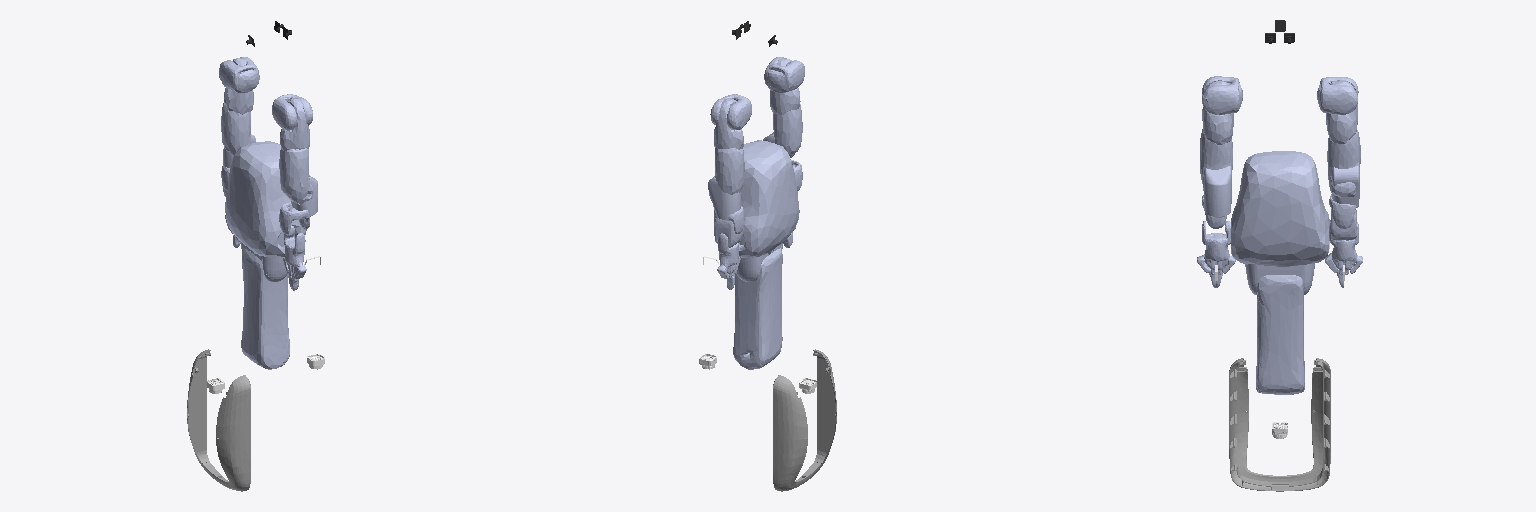
--- What the picture shows (computed from the rendered views, not written in the file) ---
The picture shows the robot from 3 angles, left to right: view 1: azimuth 30°, elevation 25°; view 2: azimuth 150°, elevation 25°; view 3: azimuth 270°, elevation 25°; orthographic projection.
Robot: autolife — 49 links, 48 joints (19 revolute, 2 prismatic, 27 fixed); root link Link_Zero_Point; default pose: all joints at 0.
Links seen in each view (by area): view 1: Link_Waist_Yaw_to_Shoulder_Inner, Link_Ground_Vehicle_Visual_Cover, Link_Ankle_to_Knee, Link_Right_UpperArm_to_Elbow, Link_Left_UpperArm_to_Elbow, Link_Left_Shoulder_Inner_to_Shoulder_Outer, Link_Right_Shoulder_Outer_to_UpperArm, Link_Right_Shoulder_Inner_to_Shoulder_Outer, Link_Left_Shoulder_Outer_to_UpperArm, Link_Right_Wrist_Lower_to_Gripper, Link_Right_Forearm_to_Wrist_Upper, Link_Knee_to_Waist_Pitch; view 2: Link_Waist_Yaw_to_Shoulder_Inner, Link_Ground_Vehicle_Visual_Cover, Link_Ankle_to_Knee, Link_Left_UpperArm_to_Elbow, Link_Right_UpperArm_to_Elbow, Link_Right_Shoulder_Inner_to_Shoulder_Outer, Link_Left_Shoulder_Inner_to_Shoulder_Outer, Link_Left_Shoulder_Outer_to_UpperArm, Link_Left_Elbow_to_Forearm, Link_Right_Shoulder_Outer_to_UpperArm, Link_Knee_to_Waist_Pitch; view 3: Link_Waist_Yaw_to_Shoulder_Inner, Link_Ground_Vehicle_Visual_Cover, Link_Ankle_to_Knee, Link_Left_UpperArm_to_Elbow, Link_Right_Elbow_to_Forearm, Link_Right_Shoulder_Inner_to_Shoulder_Outer, Link_Left_Shoulder_Inner_to_Shoulder_Outer, Link_Knee_to_Waist_Pitch, Link_Right_UpperArm_to_Elbow, Link_Right_Shoulder_Outer_to_UpperArm, Link_Left_Shoulder_Outer_to_UpperArm, Link_Right_Wrist_Lower_to_Gripper (+3 smaller).
Link boxes in pixels (x1,y1,x2,y2): Link_Waist_Yaw_to_Shoulder_Inner: (225, 141, 306, 257); Link_Ground_Vehicle_Visual_Cover: (187, 349, 250, 491); Link_Ankle_to_Knee: (241, 248, 289, 369); Link_Right_UpperArm_to_Elbow: (279, 148, 313, 204); Link_Left_UpperArm_to_Elbow: (221, 103, 251, 154); Link_Left_Shoulder_Inner_to_Shoulder_Outer: (219, 57, 259, 92); Link_Right_Shoulder_Outer_to_UpperArm: (280, 98, 309, 150); Link_Right_Shoulder_Inner_to_Shoulder_Outer: (272, 94, 312, 130); Link_Left_Shoulder_Outer_to_UpperArm: (224, 58, 253, 114); Link_Right_Wrist_Lower_to_Gripper: (284, 225, 305, 273); Link_Right_Forearm_to_Wrist_Upper: (279, 202, 309, 234); Link_Knee_to_Waist_Pitch: (241, 232, 287, 281); Link_Waist_Yaw_to_Shoulder_Inner: (739, 140, 799, 257); Link_Ground_Vehicle_Visual_Cover: (773, 349, 836, 491); Link_Ankle_to_Knee: (733, 248, 782, 369); Link_Left_UpperArm_to_Elbow: (709, 148, 744, 200); Link_Right_UpperArm_to_Elbow: (773, 104, 802, 157); Link_Right_Shoulder_Inner_to_Shoulder_Outer: (764, 57, 804, 92); Link_Left_Shoulder_Inner_to_Shoulder_Outer: (710, 94, 751, 130); Link_Left_Shoulder_Outer_to_UpperArm: (714, 98, 743, 149); Link_Left_Elbow_to_Forearm: (708, 176, 740, 220); Link_Right_Shoulder_Outer_to_UpperArm: (770, 58, 800, 114); Link_Knee_to_Waist_Pitch: (736, 237, 782, 281); Link_Waist_Yaw_to_Shoulder_Inner: (1231, 151, 1329, 266); Link_Ground_Vehicle_Visual_Cover: (1229, 358, 1330, 491); Link_Ankle_to_Knee: (1256, 275, 1304, 394); Link_Left_UpperArm_to_Elbow: (1327, 130, 1360, 197); Link_Right_Elbow_to_Forearm: (1204, 166, 1231, 217); Link_Right_Shoulder_Inner_to_Shoulder_Outer: (1202, 76, 1242, 114); Link_Left_Shoulder_Inner_to_Shoulder_Outer: (1317, 77, 1358, 114); Link_Knee_to_Waist_Pitch: (1245, 264, 1314, 294); Link_Right_UpperArm_to_Elbow: (1200, 129, 1232, 190); Link_Right_Shoulder_Outer_to_UpperArm: (1202, 81, 1233, 144); Link_Left_Shoulder_Outer_to_UpperArm: (1326, 81, 1357, 143); Link_Right_Wrist_Lower_to_Gripper: (1202, 221, 1230, 269).
Size in the robot's own frame: 0.5191 by 0.5643 by 1.82 metres.
Meshes: 45 distinct files referenced, 38 mesh visuals loaded (38 binary STL); not drawn: 7 (reference not matched to a file when rendering).

robot.urdf — autolife:
<?xml version="1.0" encoding="utf-8"?>
<!-- This URDF was automatically created by SolidWorks to URDF Exporter! Originally created by Stephen Brawner ([email redacted]) 
     Commit Version: 1.6.0-4-g7f85cfe  Build Version: 1.6.7995.38578
     For more information, please see http://wiki.ros.org/sw_urdf_exporter -->
<robot
  name="autolife">
  <link
    name="Link_Zero_Point">
    <inertial>
      <origin
        xyz="0 0 0"
        rpy="0 0 0" />
      <mass
        value="0.01" />
      <inertia
        ixx="1.0471975511966E-12"
        ixy="-6.89317177127524E-27"
        ixz="6.3476295512101E-43"
        iyy="1.04719755119686E-12"
        iyz="3.20601193725648E-29"
        izz="1.57079632679516E-12" />
    </inertial>
  </link>
  <link
    name="Link_Ground_Vehicle_Z">
    <inertial>
      <origin
        xyz="0.000400870897858022 0.109142664548612 0.0147192660471476"
        rpy="0 0 0" />
      <mass
        value="26.3816730805344" />
      <inertia
        ixx="0.00775765841261898"
        ixy="-1.2335090405042E-05"
        ixz="2.90755207854229E-06"
        iyy="0.0119705159502724"
        iyz="-0.000230536877947004"
        izz="0.00857382205336638" />
    </inertial>
    <visual>
      <origin
        xyz="0 0 0"
        rpy="0 0 0" />
      <geometry>
        <mesh
          filename="package://meshes/Link_Ground_Vehicle_Z.STL" />
      </geometry>
      <material
        name="">
        <color
          rgba="0.792156862745098 0.819607843137255 0.933333333333333 1" />
      </material>
    </visual>
    <collision>
      <origin
        xyz="0 0 0"
        rpy="0 0 0" />
      <geometry>
        <mesh
          filename="package://meshes/Link_Ground_Vehicle_Z.STL" />
      </geometry>
    </collision>
  </link>

  <!-- Virtual links and joints for 3-DOF base motion (x, y, theta) -->
  <link
    name="Link_Virtual_X">
    <inertial>
      <origin
        xyz="0 0 0"
        rpy="0 0 0" />
      <mass
        value="0.001" />
      <inertia
        ixx="1e-9"
        ixy="0"
        ixz="0"
        iyy="1e-9"
        iyz="0"
        izz="1e-9" />
    </inertial>
  </link>
  <link
    name="Link_Virtual_Y">
    <inertial>
      <origin
        xyz="0 0 0"
        rpy="0 0 0" />
      <mass
        value="0.001" />
      <inertia
        ixx="1e-9"
        ixy="0"
        ixz="0"
        iyy="1e-9"
        iyz="0"
        izz="1e-9" />
    </inertial>
  </link>
  <link
    name="Link_Virtual_Theta">
    <inertial>
      <origin
        xyz="0 0 0"
        rpy="0 0 0" />
      <mass
        value="0.001" />
      <inertia
        ixx="1e-9"
        ixy="0"
        ixz="0"
        iyy="1e-9"
        iyz="0"
        izz="1e-9" />
    </inertial>
  </link>
  <joint
    name="Joint_Virtual_X"
    type="prismatic">
    <origin
      xyz="0 0 0"
      rpy="0 0 0" />
    <parent
      link="Link_Zero_Point" />
    <child
      link="Link_Virtual_X" />
    <axis
      xyz="1 0 0" />
    <limit
      lower="-10"
      upper="10"
      effort="100"
      velocity="1.0" />
  </joint>
  <joint
    name="Joint_Virtual_Y"
    type="prismatic">
    <origin
      xyz="0 0 0"
      rpy="0 0 0" />
    <parent
      link="Link_Virtual_X" />
    <child
      link="Link_Virtual_Y" />
    <axis
      xyz="0 1 0" />
    <limit
      lower="-10"
      upper="10"
      effort="100"
      velocity="1.0" />
  </joint>
  <joint
    name="Joint_Virtual_Theta"
    type="revolute">
    <origin
      xyz="0 0 0"
      rpy="0 0 0" />
    <parent
      link="Link_Virtual_Y" />
    <child
      link="Link_Virtual_Theta" />
    <axis
      xyz="0 0 1" />
    <limit
      lower="-3.14159265358979"
      upper="3.14159265358979"
      effort="100"
      velocity="1.0" />
  </joint>
  <joint
    name="Joint_Ground_Vehicle_Z_Fixed"
    type="fixed">
    <origin
      xyz="0 0 0"
      rpy="1.5707963267949 0 -1.57079632679516" />
    <parent
      link="Link_Virtual_Theta" />
    <child
      link="Link_Ground_Vehicle_Z" />
    <axis
      xyz="0 0 0" />
  </joint>
  <link
    name="Link_Ankle_to_Knee">
    <inertial>
      <origin
        xyz="0.172566218012948 0.000537114400601479 -0.00912227769136287"
        rpy="0 0 0" />
      <mass
        value="3" />
      <inertia
        ixx="0.00282056539078239"
        ixy="7.97626589078161E-06"
        ixz="9.37318496690752E-05"
        iyy="0.0243242982709916"
        iyz="4.97919456103667E-05"
        izz="0.0234239709963532" />
    </inertial>
    <visual>
      <origin
        xyz="0 0 0"
        rpy="0 0 0" />
      <geometry>
        <mesh
          filename="package://meshes/Link_Ankle_to_Knee.STL" />
      </geometry>
      <material
        name="">
        <color
          rgba="0.792156862745098 0.819607843137255 0.933333333333333 1" />
      </material>
    </visual>
    <collision>
      <origin
        xyz="0 0 0"
        rpy="0 0 0" />
      <geometry>
        <mesh
          filename="package://meshes/Link_Ankle_to_Knee.STL" />
      </geometry>
    </collision>
  </link>
  <joint
    name="Joint_Ankle"
    type="revolute">
    <origin
      xyz="0 0.27 0"
      rpy="1.5708 0 1.5708" />
    <parent
      link="Link_Ground_Vehicle_Z" />
    <child
      link="Link_Ankle_to_Knee" />
    <axis
      xyz="0 0 -1" />
    <limit
      lower="-1.5708"
      upper="1.5708"
      effort="150"
      velocity="1" />
  </joint>
  <link
    name="Link_Knee_to_Waist_Pitch">
    <inertial>
      <origin
        xyz="0.190516175511759 0.00160329740526043 0.0308179543107181"
        rpy="0 0 0" />
      <mass
        value="2" />
      <inertia
        ixx="0.000958495389194447"
        ixy="-0.000157190432853224"
        ixz="4.07646396563268E-07"
        iyy="0.0115279594031608"
        iyz="-6.27935755551994E-08"
        izz="0.0122760868634565" />
    </inertial>
    <visual>
      <origin
        xyz="0 0 0"
        rpy="0 0 0" />
      <geometry>
        <mesh
          filename="package://meshes/Link_Knee_to_Waist_Pitch.STL" />
      </geometry>
      <material
        name="">
        <color
          rgba="0.792156862745098 0.819607843137255 0.933333333333333 1" />
      </material>
    </visual>
    <collision>
      <origin
        xyz="0 0 0"
        rpy="0 0 0" />
      <geometry>
        <mesh
          filename="package://meshes/Link_Knee_to_Waist_Pitch.STL" />
      </geometry>
    </collision>
  </link>
  <joint
    name="Joint_Knee"
    type="revolute">
    <origin
      xyz="0.3495 0 0"
      rpy="0 0 0" />
    <parent
      link="Link_Ankle_to_Knee" />
    <child
      link="Link_Knee_to_Waist_Pitch" />
    <axis
      xyz="0 0 1" />
    <limit
      lower="-3.14"
      upper="3.14"
      effort="150"
      velocity="1" />
  </joint>
  <link
    name="Link_Waist_Pitch_to_Waist_Yaw">
    <inertial>
      <origin
        xyz="0.0152074286340818 -0.000372613686719527 0.00044493341050468"
        rpy="0 0 0" />
      <mass
        value="3" />
      <inertia
        ixx="0.00059017216172053"
        ixy="-3.01831260181909E-06"
        ixz="5.48538135378066E-06"
        iyy="0.000866684105629655"
        iyz="8.73802440668745E-07"
        izz="0.000589200767126788" />
    </inertial>
    <visual>
      <origin
        xyz="0 0 0"
        rpy="0 0 0" />
      <geometry>
        <mesh
          filename="package://meshes/Link_Waist_Pitch_to_Waist_Yaw.STL" />
      </geometry>
      <material
        name="">
        <color
          rgba="0.792156862745098 0.819607843137255 0.933333333333333 1" />
      </material>
    </visual>
    <collision>
      <origin
        xyz="0 0 0"
        rpy="0 0 0" />
      <geometry>
        <mesh
          filename="package://meshes/Link_Waist_Pitch_to_Waist_Yaw.STL" />
      </geometry>
    </collision>
  </link>
  <joint
    name="Joint_Waist_Pitch"
    type="revolute">
    <origin
      xyz="0.3705 0 0"
      rpy="0 0 0" />
    <parent
      link="Link_Knee_to_Waist_Pitch" />
    <child
      link="Link_Waist_Pitch_to_Waist_Yaw" />
    <axis
      xyz="0 0 -1" />
    <limit
      lower="-3"
      upper="3"
      effort="98"
      velocity="1" />
  </joint>
  <link
    name="Link_Waist_Yaw_to_Shoulder_Inner">
    <inertial>
      <origin
        xyz="-0.00357443973349267 0.000167612086857727 0.210203734680231"
        rpy="0 0 0" />
      <mass
        value="8" />
      <inertia
        ixx="0.029899659677621"
        ixy="1.04916920327859E-05"
        ixz="0.00382797872117665"
        iyy="0.0250140583387209"
        iyz="-5.26315732752239E-05"
        izz="0.00904894088047657" />
    </inertial>
    <visual>
      <origin
        xyz="0 0 0"
        rpy="0 0 0" />
      <geometry>
        <mesh
          filename="package://meshes/Link_Waist_Yaw_to_Shoulder_Inner.STL" />
      </geometry>
      <material
        name="">
        <color
          rgba="0.792156862745098 0.819607843137255 0.933333333333333 1" />
      </material>
    </visual>
    <collision>
      <origin
        xyz="0 0 0"
        rpy="0 0 0" />
      <geometry>
        <mesh
          filename="package://meshes/Link_Waist_Yaw_to_Shoulder_Inner.STL" />
      </geometry>
    </collision>
  </link>
  <joint
    name="Joint_Waist_Yaw"
    type="revolute">
    <origin
      xyz="0.06643 0 0"
      rpy="-1.5708 0 -1.5708" />
    <parent
      link="Link_Waist_Pitch_to_Waist_Yaw" />
    <child
      link="Link_Waist_Yaw_to_Shoulder_Inner" />
    <axis
      xyz="0 0 1" />
    <limit
      lower="-3.141"
      upper="3.141"
      effort="66"
      velocity="1" />
  </joint>
  <link
    name="Link_Left_Shoulder_Inner_to_Shoulder_Outer">
    <inertial>
      <origin
        xyz="-0.000617503609231501 0.000337151611778941 0.041930917262553"
        rpy="0 0 0" />
      <mass
        value="2" />
      <inertia
        ixx="0.000317942614144699"
        ixy="-4.37586341691817E-06"
        ixz="-4.62836387627398E-06"
        iyy="0.00033024767989875"
        iyz="5.48084290151384E-06"
        izz="0.000257578010843229" />
    </inertial>
    <visual>
      <origin
        xyz="0 0 0"
        rpy="0 0 0" />
      <geometry>
        <mesh
          filename="package://meshes/Link_Left_Shoulder_Inner_to_Shoulder_Outer.STL" />
      </geometry>
      <material
        name="">
        <color
          rgba="0.792156862745098 0.819607843137255 0.933333333333333 1" />
      </material>
    </visual>
    <collision>
      <origin
        xyz="0 0 0"
        rpy="0 0 0" />
      <geometry>
        <mesh
          filename="package://meshes/Link_Left_Shoulder_Inner_to_Shoulder_Outer.STL" />
      </geometry>
    </collision>
  </link>
  <joint
    name="Joint_Left_Shoulder_Inner"
    type="revolute">
    <origin
      xyz="0 0.1311 0.25157"
      rpy="-1.5708 0 0" />
    <parent
      link="Link_Waist_Yaw_to_Shoulder_Inner" />
    <child
      link="Link_Left_Shoulder_Inner_to_Shoulder_Outer" />
    <axis
      xyz="0 0 -1" />
    <limit
      lower="-2.6179"
      upper="3.141"
      effort="21"
      velocity="1" />
  </joint>
  <link
    name="Link_Left_Shoulder_Outer_to_UpperArm">
    <inertial>
      <origin
        xyz="0.027453771294637 0.00492656911979178 -0.0324567233905465"
        rpy="0 0 0" />
      <mass
        value="2" />
      <inertia
        ixx="0.000214042217134073"
        ixy="-1.11365520673853E-05"
        ixz="2.20630090176925E-06"
        iyy="0.000214385650493547"
        iyz="1.92514857571144E-06"
        izz="0.000358027948278359" />
    </inertial>
    <visual>
      <origin
        xyz="0 0 0"
        rpy="0 0 0" />
      <geometry>
        <mesh
          filename="package://meshes/Link_Left_Shoulder_Outer_to_UpperArm.STL" />
      </geometry>
      <material
        name="">
        <color
          rgba="0.792156862745098 0.819607843137255 0.933333333333333 1" />
      </material>
    </visual>
    <collision>
      <origin
        xyz="0 0 0"
        rpy="0 0 0" />
      <geometry>
        <mesh
          filename="package://meshes/Link_Left_Shoulder_Outer_to_UpperArm.STL" />
      </geometry>
    </collision>
  </link>
  <joint
    name="Joint_Left_Shoulder_Outer"
    type="revolute">
    <origin
      xyz="0.02825 0 0.074"
      rpy="1.5708 0 1.5708" />
    <parent
      link="Link_Left_Shoulder_Inner_to_Shoulder_Outer" />
    <child
      link="Link_Left_Shoulder_Outer_to_UpperArm" />
    <axis
      xyz="0 0 1" />
    <limit
      lower="-0.349"
      upper="3.1415"
      effort="18"
      velocity="1" />
  </joint>
  <link
    name="Link_Left_UpperArm_to_Elbow">
    <inertial>
      <origin
        xyz="0.00283794982263701 0.00105392837504717 0.0547329007335405"
        rpy="0 0 0" />
      <mass
        value="2" />
      <inertia
        ixx="0.000393121104257055"
        ixy="-8.75799848864167E-06"
        ixz="-3.96258342292467E-06"
        iyy="0.000395853021852877"
        iyz="-1.34021046685226E-05"
        izz="0.000299792811027195" />
    </inertial>
    <visual>
      <origin
        xyz="0 0 0"
        rpy="0 0 0" />
      <geometry>
        <mesh
          filename="package://meshes/Link_Left_UpperArm_to_Elbow.STL" />
      </geometry>
      <material
        name="">
        <color
          rgba="0.792156862745098 0.819607843137255 0.933333333333333 1" />
      </material>
    </visual>
    <collision>
      <origin
        xyz="0 0 0"
        rpy="0 0 0" />
      <geometry>
        <mesh
          filename="package://meshes/Link_Left_UpperArm_to_Elbow.STL" />
      </geometry>
    </collision>
  </link>
  <joint
    name="Joint_Left_UpperArm"
    type="revolute">
    <origin
      xyz="0.1105 0.011 -0.02825"
      rpy="0 -1.5708 3.1415" />
    <parent
      link="Link_Left_Shoulder_Outer_to_UpperArm" />
    <child
      link="Link_Left_UpperArm_to_Elbow" />
    <axis
      xyz="0 0 -1" />
    <limit
      lower="-2.9322"
      upper="2.9322"
      effort="15"
      velocity="1" />
  </joint>
  <link
    name="Link_Left_Elbow_to_Forearm">
    <inertial>
      <origin
        xyz="0.0549465992217473 -0.0216756135999627 -0.0245947302614916"
        rpy="0 0 0" />
      <mass
        value="2" />
      <inertia
        ixx="0.000127911799616732"
        ixy="2.3810625065098E-05"
        ixz="1.03498654475136E-05"
        iyy="0.000147030754345232"
        iyz="-3.53363506350729E-06"
        izz="0.000184937879209279" />
    </inertial>
    <visual>
      <origin
        xyz="0 0 0"
        rpy="0 0 0" />
      <geometry>
        <mesh
          filename="package://meshes/Link_Left_Elbow_to_Forearm.STL" />
      </geometry>
      <material
        name="">
        <color
          rgba="0.792156862745098 0.819607843137255 0.933333333333333 1" />
      </material>
    </visual>
    <collision>
      <origin
        xyz="0 0 0"
        rpy="0 0 0" />
      <geometry>
        <mesh
          filename="package://meshes/Link_Left_Elbow_to_Forearm.STL" />
      </geometry>
    </collision>
  </link>
  <joint
    name="Joint_Left_Elbow"
    type="revolute">
    <origin
      xyz="0.025 0.02925 0.1761"
      rpy="0 -1.5708 -1.5708" />
    <parent
      link="Link_Left_UpperArm_to_Elbow" />
    <child
      link="Link_Left_Elbow_to_Forearm" />
    <axis
      xyz="0 0 1" />
    <limit
      lower="-0.0524"
      upper="2.6179"
      effort="12"
      velocity="1" />
  </joint>
  <link
    name="Link_Left_Forearm_to_Wrist_Upper">
    <inertial>
      <origin
        xyz="0.0117316218483125 -3.69437686770224E-06 0.0184007744588988"
        rpy="0 0 0" />
      <mass
        value="2" />
      <inertia
        ixx="6.56522999630318E-05"
        ixy="3.29723529713842E-09"
        ixz="-5.7222681723475E-06"
        iyy="5.37807072488987E-05"
        iyz="-6.26393944850658E-09"
        izz="4.47545736054096E-05" />
    </inertial>
    <visual>
      <origin
        xyz="0 0 0"
        rpy="0 0 0" />
      <geometry>
        <mesh
          filename="package://meshes/Link_Left_Forearm_to_Wrist_Upper.STL" />
      </geometry>
      <material
        name="">
        <color
          rgba="0.792156862745098 0.819607843137255 0.933333333333333 1" />
      </material>
    </visual>
    <collision>
      <origin
        xyz="0 0 0"
        rpy="0 0 0" />
      <geometry>
        <mesh
          filename="package://meshes/Link_Left_Forearm_to_Wrist_Upper.STL" />
      </geometry>
    </collision>
  </link>
  <joint
    name="Joint_Left_Forearm"
    type="revolute">
    <origin
      xyz="0.1055 -0.025 -0.02925"
      rpy="1.5708 0 1.5708" />
    <parent
      link="Link_Left_Elbow_to_Forearm" />
    <child
      link="Link_Left_Forearm_to_Wrist_Upper" />
    <axis
      xyz="0 0 1" />
    <limit
      lower="-2.8798"
      upper="2.8798"
      effort="9"
      velocity="1" />
  </joint>
  <link
    name="Link_Left_Wrist_Upper_to_Wrist_Lower">
    <inertial>
      <origin
        xyz="0.0274706147902958 0.00306146003716865 -0.0287201081136689"
        rpy="0 0 0" />
      <mass
        value="2" />
      <inertia
        ixx="7.43980450322553E-05"
        ixy="-2.82930739790898E-06"
        ixz="1.6123049284515E-05"
        iyy="0.00012828611050118"
        iyz="2.54263802065241E-06"
        izz="0.000158264614221317" />
    </inertial>
    <visual>
      <origin
        xyz="0 0 0"
        rpy="0 0 0" />
      <geometry>
        <mesh
          filename="package://meshes/Link_Left_Wrist_Upper_to_Wrist_Lower.STL" />
      </geometry>
      <material
        name="">
        <color
          rgba="0.792156862745098 0.819607843137255 0.933333333333333 1" />
      </material>
    </visual>
    <collision>
      <origin
        xyz="0 0 0"
        rpy="0 0 0" />
      <geometry>
        <mesh
          filename="package://meshes/Link_Left_Wrist_Upper_to_Wrist_Lower.STL" />
      </geometry>
    </collision>
  </link>
  <joint
    name="Joint_Left_Wrist_Upper"
    type="revolute">
    <origin
      xyz="0.0321 0.00036292 0.045"
      rpy="0 -1.5708 3.1415" />
    <parent
      link="Link_Left_Forearm_to_Wrist_Upper" />
    <child
      link="Link_Left_Wrist_Upper_to_Wrist_Lower" />
    <axis
      xyz="0 0 -1" />
    <limit
      lower="-1.57"
      upper="1.57"
      effort="6"
      velocity="1" />
  </joint>
  <link
    name="Link_Left_Wrist_Lower_to_Gripper">
    <inertial>
      <origin
        xyz="0.0648741770844647 -0.000143597434240463 -0.027134195278571"
        rpy="0 0 0" />
      <mass
        value="2" />
      <inertia
        ixx="6.4292671396503E-05"
        ixy="-5.66441597276215E-08"
        ixz="8.15328654282781E-06"
        iyy="0.000103295646245639"
        iyz="-8.51386738848492E-08"
        izz="6.79418373823619E-05" />
    </inertial>
    <visual>
      <origin
        xyz="0 0 0"
        rpy="0 0 0" />
      <geometry>
        <mesh
          filename="package://meshes/Link_Left_Wrist_Lower_to_Gripper.STL" />
      </geometry>
      <material
        name="">
        <color
          rgba="0.792156862745098 0.819607843137255 0.933333333333333 1" />
      </material>
    </visual>
    <collision>
      <origin
        xyz="0 0 0"
        rpy="0 0 0" />
      <geometry>
        <mesh
          filename="package://meshes/Link_Left_Wrist_Lower_to_Gripper.STL" />
      </geometry>
    </collision>
  </link>
  <joint
    name="Joint_Left_Wrist_Lower"
    type="revolute">
    <origin
      xyz="0.0552 0.0321 -0.0321"
      rpy="-1.5708 0 0" />
    <parent
      link="Link_Left_Wrist_Upper_to_Wrist_Lower" />
    <child
      link="Link_Left_Wrist_Lower_to_Gripper" />
    <axis
      xyz="0 0 1" />
    <limit
      lower="-1.4138"
      upper="1.4138"
      effort="3"
      velocity="1" />
  </joint>
  <link
    name="Link_Camera_Gripper_Left">
    <inertial>
      <origin
        xyz="0 -6.53598090210165E-05 -0.0062936548087732"
        rpy="0 0 0" />
      <mass
        value="0.000689353299449198" />
      <inertia
        ixx="1.52761574483593E-08"
        ixy="7.02761889738621E-43"
        ixz="-5.04870979341448E-26"
        iyy="1.50267886999145E-08"
        iyz="-2.75127488935958E-10"
        izz="7.39519392062991E-09" />
    </inertial>
    <visual>
      <origin
        xyz="0 0 0"
        rpy="0 0 0" />
      <geometry>
        <mesh
          filename="package://meshes/Link_Camera_Gripper_Left.STL" />
      </geometry>
      <material
        name="">
        <color
          rgba="1 1 1 1" />
      </material>
    </visual>
    <collision>
      <origin
        xyz="0 0 0"
        rpy="0 0 0" />
      <geometry>
        <mesh
          filename="package://meshes/Link_Camera_Gripper_Left.STL" />
      </geometry>
    </collision>
  </link>
  <joint
    name="Joint_Camera_Gripper_Left"
    type="fixed">
    <origin
      xyz="0.144 0 -0.031737"
      rpy="0 -1.5708 3.1415" />
    <parent
      link="Link_Left_Wrist_Lower_to_Gripper" />
    <child
      link="Link_Camera_Gripper_Left" />
    <axis
      xyz="0 0 0" />
  </joint>
  <link
    name="Link_Left_Gripper">
    <inertial>
      <origin
        xyz="0.0128216630537897 -0.0271636558972338 -0.0109999992497105"
        rpy="0 0 0" />
      <mass
        value="0.019071611307144" />
      <inertia
        ixx="4.37605332229106E-06"
        ixy="-7.97606854154892E-07"
        ixz="-6.31265013308784E-14"
        iyy="2.85906444595262E-06"
        iyz="-5.83897624438853E-14"
        izz="4.7709011928422E-06" />
    </inertial>
    <visual>
      <origin
        xyz="0 0 0"
        rpy="0 0 0" />
      <geometry>
        <mesh
          filename="package://meshes/Link_Left_Gripper.STL" />
      </geometry>
      <material
        name="">
        <color
          rgba="0.792156862745098 0.819607843137255 0.933333333333333 1" />
      </material>
    </visual>
    <collision>
      <origin
        xyz="0 0 0"
        rpy="0 0 0" />
      <geometry>
        <mesh
          filename="package://meshes/Link_Left_Gripper.STL" />
      </geometry>
    </collision>
  </link>
  <joint
    name="Joint_Left_Gripper"
    type="fixed">
    <origin
      xyz="0.10148 -0.011 -0.0011371"
      rpy="1.5708 -1.5708 0" />
    <parent
      link="Link_Left_Wrist_Lower_to_Gripper" />
    <child
      link="Link_Left_Gripper" />
    <axis
      xyz="0 0 1" />
    <limit
      lower="-1.333"
      upper="1"
      effort="2"
      velocity="1" />
  </joint>
  <link
    name="Link_Left_Gripper_Left_Inner_Knuckle">
    <inertial>
      <origin
        xyz="-0.0014993883392225 -0.0291504043841675 -0.0109999999999989"
        rpy="0 0 0" />
      <mass
        value="0.0102249515270339" />
      <inertia
        ixx="4.39129754380158E-06"
        ixy="-1.27692143624081E-07"
        ixz="2.83960514374052E-21"
        iyy="1.74716935939326E-06"
        iyz="3.84591771392931E-20"
        izz="2.912047839001E-06" />
    </inertial>
    <visual>
      <origin
        xyz="0 0 0"
        rpy="0 0 0" />
      <geometry>
        <mesh
          filename="package://meshes/Link_Left_Gripper_Left_Inner_Knuckle.STL" />
      </geometry>
      <material
        name="">
        <color
          rgba="0.792156862745098 0.819607843137255 0.933333333333333 1" />
      </material>
    </visual>
    <collision>
      <origin
        xyz="0 0 0"
        rpy="0 0 0" />
      <geometry>
        <mesh
          filename="package://meshes/Link_Left_Gripper_Left_Inner_Knuckle.STL" />
      </geometry>
    </collision>
  </link>
  <joint
    name="Joint_Left_Gripper_Left_Inner_Knuckle"
    type="fixed">
    <origin
      xyz="0.10799 -0.011 -0.019037"
      rpy="1.5708 -1.5708 0" />
    <parent
      link="Link_Left_Wrist_Lower_to_Gripper" />
    <child
      link="Link_Left_Gripper_Left_Inner_Knuckle" />
    <axis
      xyz="0 0 1" />
    <limit
      lower="-1"
      upper="1"
      effort="2"
      velocity="1" />
    <mimic
      joint="Joint_Left_Gripper"
      multiplier="1"
      offset="0" />
  </joint>
  <link
    name="Joint_Left_Gripper_Left_Finger">
    <inertial>
      <origin
        xyz="0.000641821702344197 -0.0211812400734594 -0.00789294723050178"
        rpy="0 0 0" />
      <mass
        value="0.0195863673176325" />
      <inertia
        ixx="3.21349935756281E-06"
        ixy="-3.31543812300713E-07"
        ixz="-6.14417448646314E-09"
        iyy="1.31949587109393E-06"
        iyz="-2.98355626473403E-08"
        izz="2.98254973033515E-06" />
    </inertial>
    <visual>
      <origin
        xyz="0 0 0"
        rpy="0 0 0" />
      <geometry>
        <mesh
          filename="package://meshes/Joint_Left_Gripper_Left_Finger.STL" />
      </geometry>
      <material
        name="">
        <color
          rgba="0.792156862745098 0.819607843137255 0.933333333333333 1" />
      </material>
    </visual>
    <collision>
      <origin
        xyz="0 0 0"
        rpy="0 0 0" />
      <geometry>
        <mesh
          filename="package://meshes/Joint_Left_Gripper_Left_Finger.STL" />
      </geometry>
    </collision>
  </link>
  <joint
    name="Joint_Left_Gripper_Left_Finger"
    type="fixed">
    <origin
      xyz="-0.0032202 -0.057059 -0.0029"
      rpy="0 0 0" />
    <parent
      link="Link_Left_Gripper_Left_Inner_Knuckle" />
    <child
      link="Joint_Left_Gripper_Left_Finger" />
    <axis
      xyz="0 0 1" />
    <limit
      lower="-1"
      upper="1"
      effort="2"
      velocity="1" />
    <mimic
      joint="Joint_Left_Gripper"
      multiplier="-1"
      offset="0" />
  </joint>
  <link
    name="Link_Left_Gripper_Right_Outer_Knuckle">
    <inertial>
      <origin
        xyz="-0.0128216630537897 -0.0271636558972338 -0.0110000007502954"
        rpy="0 0 0" />
      <mass
        value="0.0190716113071439" />
      <inertia
        ixx="4.37605332229105E-06"
        ixy="7.97606854154892E-07"
        ixz="-6.31265543908738E-14"
        iyy="2.85906444595261E-06"
        iyz="5.8389891601347E-14"
        izz="4.77090119284218E-06" />
    </inertial>
    <visual>
      <origin
        xyz="0 0 0"
        rpy="0 0 0" />
      <geometry>
        <mesh
          filename="package://meshes/Link_Left_Gripper_Right_Outer_Knuckle.STL" />
      </geometry>
      <material
        name="">
        <color
          rgba="0.792156862745098 0.819607843137255 0.933333333333333 1" />
      </material>
    </visual>
    <collision>
      <origin
        xyz="0 0 0"
        rpy="0 0 0" />
      <geometry>
        <mesh
          filename="package://meshes/Link_Left_Gripper_Right_Outer_Knuckle.STL" />
      </geometry>
    </collision>
  </link>
  <joint
    name="Joint_Left_Gripper_Right_Outer_Knuckle"
    type="fixed">
    <origin
      xyz="0.10148 -0.011 -0.062337"
      rpy="1.5708 -1.5708 0" />
    <parent
      link="Link_Left_Wrist_Lower_to_Gripper" />
    <child
      link="Link_Left_Gripper_Right_Outer_Knuckle" />
    <axis
      xyz="0 0 1" />
    <limit
      lower="-1"
      upper="1"
      effort="2"
      velocity="1" />
    <mimic
      joint="Joint_Left_Gripper"
      multiplier="-1"
      offset="0" />
  </joint>
  <link
    name="Link_Left_Gripper_Right_Inner_Knuckle">
    <inertial>
      <origin
        xyz="0.00149938833922247 -0.0291504043841676 -0.0109999999999991"
        rpy="0 0 0" />
      <mass
        value="0.0102249515270339" />
      <inertia
        ixx="4.39129754380157E-06"
        ixy="1.27692143624082E-07"
        ixz="-6.57379537737095E-21"
        iyy="1.74716935939326E-06"
        iyz="3.88342247869938E-20"
        izz="2.912047839001E-06" />
    </inertial>
    <visual>
      <origin
        xyz="0 0 0"
        rpy="0 0 0" />
      <geometry>
        <mesh
          filename="package://meshes/Link_Left_Gripper_Right_Inner_Knuckle.STL" />
      </geometry>
      <material
        name="">
        <color
          rgba="0.792156862745098 0.819607843137255 0.933333333333333 1" />
      </material>
    </visual>
    <collision>
      <origin
        xyz="0 0 0"
        rpy="0 0 0" />
      <geometry>
        <mesh
          filename="package://meshes/Link_Left_Gripper_Right_Inner_Knuckle.STL" />
      </geometry>
    </collision>
  </link>
  <joint
    name="Joint_Left_Gripper_Right_Inner_Knuckle"
    type="fixed">
    <origin
      xyz="0.10799 -0.011 -0.044437"
      rpy="1.5708 -1.5708 0" />
    <parent
      link="Link_Left_Wrist_Lower_to_Gripper" />
    <child
      link="Link_Left_Gripper_Right_Inner_Knuckle" />
    <axis
      xyz="0 0 1" />
    <limit
      lower="-1"
      upper="1"
      effort="2"
      velocity="1" />
    <mimic
      joint="Joint_Left_Gripper"
      multiplier="-1"
      offset="0" />
  </joint>
  <link
    name="Link_Left_Gripper_Right_Finger">
    <inertial>
      <origin
        xyz="-0.000641821702329487 -0.0211812400734794 -0.00845231346592281"
        rpy="0 0 0" />
      <mass
        value="0.0195863673176191" />
      <inertia
        ixx="3.21349935756186E-06"
        ixy="3.31543812299975E-07"
        ixz="1.95020615891569E-08"
        iyy="1.31949587109184E-06"
        iyz="1.60026426812494E-08"
        izz="2.98254973033312E-06" />
    </inertial>
    <visual>
      <origin
        xyz="0 0 0"
        rpy="0 0 0" />
      <geometry>
        <mesh
          filename="package://meshes/Link_Left_Gripper_Right_Finger.STL" />
      </geometry>
      <material
        name="">
        <color
          rgba="0.792156862745098 0.819607843137255 0.933333333333333 1" />
      </material>
    </visual>
    <collision>
      <origin
        xyz="0 0 0"
        rpy="0 0 0" />
      <geometry>
        <mesh
          filename="package://meshes/Link_Left_Gripper_Right_Finger.STL" />
      </geometry>
    </collision>
  </link>
  <joint
    name="Joint_Left_Gripper_Right_Finger"
    type="fixed">
    <origin
      xyz="0.0032202 -0.057059 -0.0029"
      rpy="0 0 0" />
    <parent
      link="Link_Left_Gripper_Right_Inner_Knuckle" />
    <child
      link="Link_Left_Gripper_Right_Finger" />
    <axis
      xyz="0 0 1" />
    <limit
      lower="-1"
      upper="1"
      effort="2"
      velocity="1" />
    <mimic
      joint="Joint_Left_Gripper"
      multiplier="1"
      offset="0" />
  </joint>
  <link
    name="Link_Right_Shoulder_Inner_to_Shoulder_Outer">
    <inertial>
      <origin
        xyz="-0.000121386549671372 7.34583017103496E-06 0.0210155003115829"
        rpy="0 0 0" />
      <mass
        value="2" />
      <inertia
        ixx="0.000977756325769617"
        ixy="3.71069787552584E-06"
        ixz="-7.30302568317668E-06"
        iyy="0.000924173733869007"
        iyz="-1.4882338172485E-05"
        izz="0.000886081402292421" />
    </inertial>
    <visual>
      <origin
        xyz="0 0 0"
        rpy="0 0 0" />
      <geometry>
        <mesh
          filename="package://meshes/Link_Right_Shoulder_Inner_to_Shoulder_Outer.STL" />
      </geometry>
      <material
        name="">
        <color
          rgba="0.792156862745098 0.819607843137255 0.933333333333333 1" />
      </material>
    </visual>
    <collision>
      <origin
        xyz="0 0 0"
        rpy="0 0 0" />
      <geometry>
        <mesh
          filename="package://meshes/Link_Right_Shoulder_Inner_to_Shoulder_Outer.STL" />
      </geometry>
    </collision>
  </link>
  <joint
    name="Joint_Right_Shoulder_Inner"
    type="revolute">
    <origin
      xyz="0 -0.1311 0.25157"
      rpy="1.5708 0 0" />
    <parent
      link="Link_Waist_Yaw_to_Shoulder_Inner" />
    <child
      link="Link_Right_Shoulder_Inner_to_Shoulder_Outer" />
    <axis
      xyz="0 0 -1" />
    <limit
      lower="-2.6179"
      upper="3.141"
      effort="21"
      velocity="1" />
  </joint>
  <link
    name="Link_Right_Shoulder_Outer_to_UpperArm">
    <inertial>
      <origin
        xyz="0.0274539015712283 -0.00492677128569141 -0.0324569727055196"
        rpy="0 0 0" />
      <mass
        value="2" />
      <inertia
        ixx="0.000214042473591272"
        ixy="1.11365920380498E-05"
        ixz="2.20601709700472E-06"
        iyy="0.000214385832751345"
        iyz="-1.92165707841848E-06"
        izz="0.000358027748939643" />
    </inertial>
    <visual>
      <origin
        xyz="0 0 0"
        rpy="0 0 0" />
      <geometry>
        <mesh
          filename="package://meshes/Link_Right_Shoulder_Outer_to_UpperArm.STL" />
      </geometry>
      <material
        name="">
        <color
          rgba="0.792156862745098 0.819607843137255 0.933333333333333 1" />
      </material>
    </visual>
    <collision>
      <origin
        xyz="0 0 0"
        rpy="0 0 0" />
      <geometry>
        <mesh
          filename="package://meshes/Link_Right_Shoulder_Outer_to_UpperArm.STL" />
      </geometry>
    </collision>
  </link>
  <joint
    name="Joint_Right_Shoulder_Outer"
    type="revolute">
    <origin
      xyz="0.02825 0 0.074"
      rpy="-1.5708 0 -1.5708" />
    <parent
      link="Link_Right_Shoulder_Inner_to_Shoulder_Outer" />
    <child
      link="Link_Right_Shoulder_Outer_to_UpperArm" />
    <axis
      xyz="0 0 1" />
    <limit
      lower="-3.1415"
      upper="0.349"
      effort="18"
      velocity="1" />
  </joint>
  <link
    name="Link_Right_UpperArm_to_Elbow">
    <inertial>
      <origin
        xyz="0.00283794988551719 0.00105392799054504 0.0547329013503048"
        rpy="0 0 0" />
      <mass
        value="2" />
      <inertia
        ixx="0.000393120911825715"
        ixy="-8.75795324587382E-06"
        ixz="-3.962514693899E-06"
        iyy="0.000395852843902946"
        iyz="-1.34020049734601E-05"
        izz="0.000299792728258983" />
    </inertial>
    <visual>
      <origin
        xyz="0 0 0"
        rpy="0 0 0" />
      <geometry>
        <mesh
          filename="package://meshes/Link_Right_UpperArm_to_Elbow.STL" />
      </geometry>
      <material
        name="">
        <color
          rgba="0.792156862745098 0.819607843137255 0.933333333333333 1" />
      </material>
    </visual>
    <collision>
      <origin
        xyz="0 0 0"
        rpy="0 0 0" />
      <geometry>
        <mesh
          filename="package://meshes/Link_Right_UpperArm_to_Elbow.STL" />
      </geometry>
    </collision>
  </link>
  <joint
    name="Joint_Right_UpperArm"
    type="revolute">
    <origin
      xyz="0.1105 -0.011 -0.02825"
      rpy="3.1415 -1.5708 0" />
    <parent
      link="Link_Right_Shoulder_Outer_to_UpperArm" />
    <child
      link="Link_Right_UpperArm_to_Elbow" />
    <axis
      xyz="0 0 -1" />
    <limit
      lower="-2.9322"
      upper="2.9322"
      effort="15"
      velocity="1" />
  </joint>
  <link
    name="Link_Right_Elbow_to_Forearm">
    <inertial>
      <origin
        xyz="0.0549466007838511 -0.0216756143846236 -0.0260947315628108"
        rpy="0 0 0" />
      <mass
        value="2" />
      <inertia
        ixx="0.000127911797234284"
        ixy="2.38106236366762E-05"
        ixz="1.03498650492801E-05"
        iyy="0.000147030754784962"
        iyz="-3.53363431747744E-06"
        izz="0.000184937877942153" />
    </inertial>
    <visual>
      <origin
        xyz="0 0 0"
        rpy="0 0 0" />
      <geometry>
        <mesh
          filename="package://meshes/Link_Right_Elbow_to_Forearm.STL" />
      </geometry>
      <material
        name="">
        <color
          rgba="0.792156862745098 0.819607843137255 0.933333333333333 1" />
      </material>
    </visual>
    <collision>
      <origin
        xyz="0 0 0"
        rpy="0 0 0" />
      <geometry>
        <mesh
          filename="package://meshes/Link_Right_Elbow_to_Forearm.STL" />
      </geometry>
    </collision>
  </link>
  <joint
    name="Joint_Right_Elbow"
    type="revolute">
    <origin
      xyz="0.025 0.03075 0.1761"
      rpy="0 -1.5708 -1.5708" />
    <parent
      link="Link_Right_UpperArm_to_Elbow" />
    <child
      link="Link_Right_Elbow_to_Forearm" />
    <axis
      xyz="0 0 -1" />
    <limit
      lower="-2.6179"
      upper="0.0524"
      effort="12"
      velocity="1" />
  </joint>
  <link
    name="Link_Right_Forearm_to_Wrist_Upper">
    <inertial>
      <origin
        xyz="0.0117316218483126 -3.6943768679798E-06 0.0184007744589053"
        rpy="0 0 0" />
      <mass
        value="2" />
      <inertia
        ixx="6.56522999630344E-05"
        ixy="3.29723529714723E-09"
        ixz="-5.72226817234757E-06"
        iyy="5.37807072489002E-05"
        iyz="-6.26393944830209E-09"
        izz="4.47545736054112E-05" />
    </inertial>
    <visual>
      <origin
        xyz="0 0 0"
        rpy="0 0 0" />
      <geometry>
        <mesh
          filename="package://meshes/Link_Right_Forearm_to_Wrist_Upper.STL" />
      </geometry>
      <material
        name="">
        <color
          rgba="0.792156862745098 0.819607843137255 0.933333333333333 1" />
      </material>
    </visual>
    <collision>
      <origin
        xyz="0 0 0"
        rpy="0 0 0" />
      <geometry>
        <mesh
          filename="package://meshes/Link_Right_Forearm_to_Wrist_Upper.STL" />
      </geometry>
    </collision>
  </link>
  <joint
    name="Joint_Right_Forearm"
    type="revolute">
    <origin
      xyz="0.1055 -0.025 -0.03075"
      rpy="1.5708 0 1.5708" />
    <parent
      link="Link_Right_Elbow_to_Forearm" />
    <child
      link="Link_Right_Forearm_to_Wrist_Upper" />
    <axis
      xyz="0 0 1" />
    <limit
      lower="-2.8798"
      upper="2.8798"
      effort="9"
      velocity="1" />
  </joint>
  <link
    name="Link_Right_Wrist_Upper_to_Wrist_Lower ">
    <inertial>
      <origin
        xyz="0.0274706147902958 0.00306146003716867 -0.0287201081136689"
        rpy="0 0 0" />
      <mass
        value="2" />
      <inertia
        ixx="7.43980450322561E-05"
        ixy="-2.82930739790888E-06"
        ixz="1.61230492845152E-05"
        iyy="0.00012828611050118"
        iyz="2.54263802065222E-06"
        izz="0.000158264614221318" />
    </inertial>
    <visual>
      <origin
        xyz="0 0 0"
        rpy="0 0 0" />
      <geometry>
        <mesh
          filename="package://meshes/Link_Right_Wrist_Upper_to_Wrist_Lower .STL" />
      </geometry>
      <material
        name="">
        <color
          rgba="0.792156862745098 0.819607843137255 0.933333333333333 1" />
      </material>
    </visual>
    <collision>
      <origin
        xyz="0 0 0"
        rpy="0 0 0" />
      <geometry>
        <mesh
          filename="package://meshes/Link_Right_Wrist_Upper_to_Wrist_Lower .STL" />
      </geometry>
    </collision>
  </link>
  <joint
    name="Joint_Right_Wrist_Upper"
    type="revolute">
    <origin
      xyz="0.0321 -0.00036285 0.045"
      rpy="3.1415 -1.5708 0" />
    <parent
      link="Link_Right_Forearm_to_Wrist_Upper" />
    <child
      link="Link_Right_Wrist_Upper_to_Wrist_Lower " />
    <axis
      xyz="0 0 -1" />
    <limit
      lower="-1.57"
      upper="1.57"
      effort="6"
      velocity="1" />
  </joint>
  <link
    name="Link_Right_Wrist_Lower_to_Gripper">
    <inertial>
      <origin
        xyz="0.0648741770844646 -0.00014359743424047 -0.0278599665542821"
        rpy="0 0 0" />
      <mass
        value="2" />
      <inertia
        ixx="6.42926713965031E-05"
        ixy="-5.6644159727651E-08"
        ixz="8.15328654282783E-06"
        iyy="0.000103295646245639"
        iyz="-8.51386738847878E-08"
        izz="6.79418373823619E-05" />
    </inertial>
    <visual>
      <origin
        xyz="0 0 0"
        rpy="0 0 0" />
      <geometry>
        <mesh
          filename="package://meshes/Link_Right_Wrist_Lower_to_Gripper.STL" />
      </geometry>
      <material
        name="">
        <color
          rgba="0.792156862745098 0.819607843137255 0.933333333333333 1" />
      </material>
    </visual>
    <collision>
      <origin
        xyz="0 0 0"
        rpy="0 0 0" />
      <geometry>
        <mesh
          filename="package://meshes/Link_Right_Wrist_Lower_to_Gripper.STL" />
      </geometry>
    </collision>
  </link>
  <joint
    name="Joint_Right_Wrist_Lower"
    type="revolute">
    <origin
      xyz="0.0552 0.0321 -0.0321"
      rpy="-1.5708 0 0" />
    <parent
      link="Link_Right_Wrist_Upper_to_Wrist_Lower " />
    <child
      link="Link_Right_Wrist_Lower_to_Gripper" />
    <axis
      xyz="0 0 1" />
    <limit
      lower="-1.4138"
      upper="1.4138"
      effort="3"
      velocity="1" />
  </joint>
  <link
    name="Link_Camera_Gripper_Right">
    <inertial>
      <origin
        xyz="0 -6.53598090210174E-05 -0.0062936548087732"
        rpy="0 0 0" />
      <mass
        value="0.000689353299449199" />
      <inertia
        ixx="1.52761574483593E-08"
        ixy="-4.77552014841595E-26"
        ixz="-1.56220704946069E-25"
        iyy="1.50267886999145E-08"
        iyz="-2.75127488935962E-10"
        izz="7.39519392062994E-09" />
    </inertial>
    <visual>
      <origin
        xyz="0 0 0"
        rpy="0 0 0" />
      <geometry>
        <mesh
          filename="package://meshes/Link_Camera_Gripper_Right.STL" />
      </geometry>
      <material
        name="">
        <color
          rgba="1 1 1 1" />
      </material>
    </visual>
    <collision>
      <origin
        xyz="0 0 0"
        rpy="0 0 0" />
      <geometry>
        <mesh
          filename="package://meshes/Link_Camera_Gripper_Right.STL" />
      </geometry>
    </collision>
  </link>
  <joint
    name="Joint_Camera_Gripper_Right"
    type="fixed">
    <origin
      xyz="0.144 0 -0.032463"
      rpy="0 -1.5708 3.1415" />
    <parent
      link="Link_Right_Wrist_Lower_to_Gripper" />
    <child
      link="Link_Camera_Gripper_Right" />
    <axis
      xyz="0 0 0" />
  </joint>
  <link
    name="Link_Right_Gripper">
    <inertial>
      <origin
        xyz="0.0128216630537897 -0.0271636558972338 -0.0109999992497105"
        rpy="0 0 0" />
      <mass
        value="0.0190716113071439" />
      <inertia
        ixx="4.37605332229105E-06"
        ixy="-7.97606854154887E-07"
        ixz="-6.31265006022645E-14"
        iyy="2.85906444595262E-06"
        iyz="-5.83897621056923E-14"
        izz="4.77090119284218E-06" />
    </inertial>
    <visual>
      <origin
        xyz="0 0 0"
        rpy="0 0 0" />
      <geometry>
        <mesh
          filename="package://meshes/Link_Right_Gripper.STL" />
      </geometry>
      <material
        name="">
        <color
          rgba="0.792156862745098 0.819607843137255 0.933333333333333 1" />
      </material>
    </visual>
    <collision>
      <origin
        xyz="0 0 0"
        rpy="0 0 0" />
      <geometry>
        <mesh
          filename="package://meshes/Link_Right_Gripper.STL" />
      </geometry>
    </collision>
  </link>
  <joint
    name="Joint_Right_Gripper"
    type="fixed">
    <origin
      xyz="0.10148 -0.011 -0.0018628"
      rpy="1.5708 -1.5708 0" />
    <parent
      link="Link_Right_Wrist_Lower_to_Gripper" />
    <child
      link="Link_Right_Gripper" />
    <axis
      xyz="0 0 1" />
    <limit
      lower="-1.333"
      upper="1"
      effort="2"
      velocity="1" />
  </joint>
  <link
    name="Link_Right_Gripper_Left_Inner_Knuckle">
    <inertial>
      <origin
        xyz="-0.00149938833922253 -0.0291504043841675 -0.0109999999999989"
        rpy="0 0 0" />
      <mass
        value="0.0102249515270339" />
      <inertia
        ixx="4.39129754380159E-06"
        ixy="-1.27692143624083E-07"
        ixz="5.56964959956836E-21"
        iyy="1.74716935939326E-06"
        iyz="3.7627949232859E-20"
        izz="2.91204783900101E-06" />
    </inertial>
    <visual>
      <origin
        xyz="0 0 0"
        rpy="0 0 0" />
      <geometry>
        <mesh
          filename="package://meshes/Link_Right_Gripper_Left_Inner_Knuckle.STL" />
      </geometry>
      <material
        name="">
        <color
          rgba="0.792156862745098 0.819607843137255 0.933333333333333 1" />
      </material>
    </visual>
    <collision>
      <origin
        xyz="0 0 0"
        rpy="0 0 0" />
      <geometry>
        <mesh
          filename="package://meshes/Link_Right_Gripper_Left_Inner_Knuckle.STL" />
      </geometry>
    </collision>
  </link>
  <joint
    name="Joint_Right_Gripper_Left_Inner_Knuckle"
    type="fixed">
    <origin
      xyz="0.10799 -0.011 -0.019763"
      rpy="1.5708 -1.5708 0" />
    <parent
      link="Link_Right_Wrist_Lower_to_Gripper" />
    <child
      link="Link_Right_Gripper_Left_Inner_Knuckle" />
    <axis
      xyz="0 0 1" />
    <limit
      lower="-1"
      upper="1"
      effort="2"
      velocity="1" />
    <mimic
      joint="Joint_Right_Gripper"
      multiplier="1"
      offset="0" />
  </joint>
  <link
    name="Link_Right_Gripper_Left_Finger">
    <inertial>
      <origin
        xyz="0.000641821702344281 -0.0211812400734595 -0.00789294723050172"
        rpy="0 0 0" />
      <mass
        value="0.0195863673176326" />
      <inertia
        ixx="3.21349935756284E-06"
        ixy="-3.31543812300715E-07"
        ixz="-6.14417448646757E-09"
        iyy="1.31949587109393E-06"
        iyz="-2.98355626473412E-08"
        izz="2.98254973033518E-06" />
    </inertial>
    <visual>
      <origin
        xyz="0 0 0"
        rpy="0 0 0" />
      <geometry>
        <mesh
          filename="package://meshes/Link_Right_Gripper_Left_Finger.STL" />
      </geometry>
      <material
        name="">
        <color
          rgba="0.792156862745098 0.819607843137255 0.933333333333333 1" />
      </material>
    </visual>
    <collision>
      <origin
        xyz="0 0 0"
        rpy="0 0 0" />
      <geometry>
        <mesh
          filename="package://meshes/Link_Right_Gripper_Left_Finger.STL" />
      </geometry>
    </collision>
  </link>
  <joint
    name="Joint_Right_Gripper_Left_Finger"
    type="fixed">
    <origin
      xyz="-0.0032202 -0.057059 -0.0029"
      rpy="0 0 0" />
    <parent
      link="Link_Right_Gripper_Left_Inner_Knuckle" />
    <child
      link="Link_Right_Gripper_Left_Finger" />
    <axis
      xyz="0 0 1" />
    <limit
      lower="-1"
      upper="1"
      effort="2"
      velocity="1" />
    <mimic
      joint="Joint_Right_Gripper"
      multiplier="-1"
      offset="0" />
  </joint>
  <link
    name="Link_Right_Gripper_Right_Outer_Knuckle">
    <inertial>
      <origin
        xyz="-0.0128216630537898 -0.0271636558972336 -0.0110000007502954"
        rpy="0 0 0" />
      <mass
        value="0.019071611307144" />
      <inertia
        ixx="4.37605332229107E-06"
        ixy="7.97606854154889E-07"
        ixz="-6.31265587691774E-14"
        iyy="2.85906444595262E-06"
        iyz="5.83898889429144E-14"
        izz="4.77090119284221E-06" />
    </inertial>
    <visual>
      <origin
        xyz="0 0 0"
        rpy="0 0 0" />
      <geometry>
        <mesh
          filename="package://meshes/Link_Right_Gripper_Right_Outer_Knuckle.STL" />
      </geometry>
      <material
        name="">
        <color
          rgba="0.792156862745098 0.819607843137255 0.933333333333333 1" />
      </material>
    </visual>
    <collision>
      <origin
        xyz="0 0 0"
        rpy="0 0 0" />
      <geometry>
        <mesh
          filename="package://meshes/Link_Right_Gripper_Right_Outer_Knuckle.STL" />
      </geometry>
    </collision>
  </link>
  <joint
    name="Joint_Right_Gripper_Right_Outer_Knuckle"
    type="fixed">
    <origin
      xyz="0.10148 -0.011 -0.063063"
      rpy="1.5708 -1.5708 0" />
    <parent
      link="Link_Right_Wrist_Lower_to_Gripper" />
    <child
      link="Link_Right_Gripper_Right_Outer_Knuckle" />
    <axis
      xyz="0 0 1" />
    <limit
      lower="-1"
      upper="1"
      effort="2"
      velocity="1" />
    <mimic
      joint="Joint_Right_Gripper"
      multiplier="-1"
      offset="0" />
  </joint>
  <link
    name="Link_Right_Gripper_Right_Inner_Knuckle">
    <inertial>
      <origin
        xyz="0.00149938833922253 -0.0291504043841675 -0.0109999999999991"
        rpy="0 0 0" />
      <mass
        value="0.0102249515270339" />
      <inertia
        ixx="4.39129754380158E-06"
        ixy="1.2769214362408E-07"
        ixz="-5.6943281465406E-21"
        iyy="1.74716935939326E-06"
        iyz="3.78884972585288E-20"
        izz="2.912047839001E-06" />
    </inertial>
    <visual>
      <origin
        xyz="0 0 0"
        rpy="0 0 0" />
      <geometry>
        <mesh
          filename="package://meshes/Link_Right_Gripper_Right_Inner_Knuckle.STL" />
      </geometry>
      <material
        name="">
        <color
          rgba="0.792156862745098 0.819607843137255 0.933333333333333 1" />
      </material>
    </visual>
    <collision>
      <origin
        xyz="0 0 0"
        rpy="0 0 0" />
      <geometry>
        <mesh
          filename="package://meshes/Link_Right_Gripper_Right_Inner_Knuckle.STL" />
      </geometry>
    </collision>
  </link>
  <joint
    name="Joint_Right_Gripper_Right_Inner_Knuckle"
    type="fixed">
    <origin
      xyz="0.10799 -0.011 -0.045163"
      rpy="1.5708 -1.5708 0" />
    <parent
      link="Link_Right_Wrist_Lower_to_Gripper" />
    <child
      link="Link_Right_Gripper_Right_Inner_Knuckle" />
    <axis
      xyz="0 0 1" />
    <limit
      lower="-1"
      upper="1"
      effort="2"
      velocity="1" />
    <mimic
      joint="Joint_Right_Gripper"
      multiplier="-1"
      offset="0" />
  </joint>
  <link
    name="Link_Right_Gripper_Right_Finger">
    <inertial>
      <origin
        xyz="-0.00064182170213728 -0.0211812400742588 -0.00845231346583974"
        rpy="0 0 0" />
      <mass
        value="0.0195863673180198" />
      <inertia
        ixx="3.21349935784202E-06"
        ixy="3.31543812364365E-07"
        ixz="1.95020615750501E-08"
        iyy="1.31949587111093E-06"
        iyz="1.60026427323422E-08"
        izz="2.9825497306121E-06" />
    </inertial>
    <visual>
      <origin
        xyz="0 0 0"
        rpy="0 0 0" />
      <geometry>
        <mesh
          filename="package://meshes/Link_Right_Gripper_Right_Finger.STL" />
      </geometry>
      <material
        name="">
        <color
          rgba="0.792156862745098 0.819607843137255 0.933333333333333 1" />
      </material>
    </visual>
    <collision>
      <origin
        xyz="0 0 0"
        rpy="0 0 0" />
      <geometry>
        <mesh
          filename="package://meshes/Link_Right_Gripper_Right_Finger.STL" />
      </geometry>
    </collision>
  </link>
  <joint
    name="Joint_Right_Gripper_Right_Finger"
    type="fixed">
    <origin
      xyz="0.0032202 -0.057059 -0.0029"
      rpy="0 0 0" />
    <parent
      link="Link_Right_Gripper_Right_Inner_Knuckle" />
    <child
      link="Link_Right_Gripper_Right_Finger" />
    <axis
      xyz="0 0 1" />
    <limit
      lower="-1"
      upper="1"
      effort="2"
      velocity="1" />
    <mimic
      joint="Joint_Right_Gripper"
      multiplier="1"
      offset="0" />
  </joint>
  <link
    name="Link_Camera_Head_Back">
    <inertial>
      <origin
        xyz="-0.000803346538442287 0.00102233892031145 -0.0271730577422258"
        rpy="0 0 0" />
      <mass
        value="0.0177930956200841" />
      <inertia
        ixx="8.06235495517881E-06"
        ixy="1.39056250910053E-08"
        ixz="-1.00210046478199E-06"
        iyy="8.74839376567522E-06"
        iyz="4.91714201406625E-07"
        izz="3.19382727241654E-06" />
    </inertial>
    <visual>
      <origin
        xyz="0 0 0"
        rpy="0 0 0" />
      <geometry>
        <mesh
          filename="package://meshes/Link_Camera_Head_Back.STL" />
      </geometry>
      <material
        name="">
        <color
          rgba="0.250980392156863 0.250980392156863 0.250980392156863 1" />
      </material>
    </visual>
    <collision>
      <origin
        xyz="0 0 0"
        rpy="0 0 0" />
      <geometry>
        <mesh
          filename="package://meshes/Link_Camera_Head_Back.STL" />
      </geometry>
    </collision>
  </link>
  <joint
    name="Joint_Camera_Head_Back"
    type="fixed">
    <origin
      xyz="-0.0805947420151883 0 0.479275977050066"
      rpy="1.78023583703347 0 -1.57079633558566" />
    <parent
      link="Link_Waist_Yaw_to_Shoulder_Inner" />
    <child
      link="Link_Camera_Head_Back" />
    <axis
      xyz="0 0 0" />
  </joint>
  <link
    name="Link_Camera_Head_Right_Eye">
    <inertial>
      <origin
        xyz="-0.00080334635020074 0.00102234052424643 -0.0271730569271434"
        rpy="0 0 0" />
      <mass
        value="0.0177930973239926" />
      <inertia
        ixx="8.06235514574236E-06"
        ixy="1.39055611846873E-08"
        ixz="-1.002100499834E-06"
        iyy="8.74839411494282E-06"
        iyz="4.91713772423917E-07"
        izz="3.19382719772465E-06" />
    </inertial>
    <visual>
      <origin
        xyz="0 0 0"
        rpy="0 0 0" />
      <geometry>
        <mesh
          filename="package://meshes/Link_Camera_Head_Right_Eye.STL" />
      </geometry>
      <material
        name="">
        <color
          rgba="0.250980392156863 0.250980392156863 0.250980392156863 1" />
      </material>
    </visual>
    <collision>
      <origin
        xyz="0 0 0"
        rpy="0 0 0" />
      <geometry>
        <mesh
          filename="package://meshes/Link_Camera_Head_Right_Eye.STL" />
      </geometry>
    </collision>
  </link>
  <joint
    name="Joint_Camera_Head_Right_Eye"
    type="fixed">
    <origin
      xyz="0.0901048231723684 -0.0315000007465771 0.495336903561719"
      rpy="1.65806278939535 0 1.57079631752076" />
    <parent
      link="Link_Waist_Yaw_to_Shoulder_Inner" />
    <child
      link="Link_Camera_Head_Right_Eye" />
    <axis
      xyz="0 0 0" />
  </joint>
  <link
    name="Link_Camera_Head_Left_Eye">
    <inertial>
      <origin
        xyz="-0.000803346350200747 0.00102234052424621 -0.0271730569271432"
        rpy="0 0 0" />
      <mass
        value="0.0177930973239927" />
      <inertia
        ixx="8.06235514574244E-06"
        ixy="1.39055611846865E-08"
        ixz="-1.00210049983399E-06"
        iyy="8.7483941149429E-06"
        iyz="4.91713772423912E-07"
        izz="3.19382719772465E-06" />
    </inertial>
    <visual>
      <origin
        xyz="0 0 0"
        rpy="0 0 0" />
      <geometry>
        <mesh
          filename="package://meshes/Link_Camera_Head_Left_Eye.STL" />
      </geometry>
      <material
        name="">
        <color
          rgba="0.250980392156863 0.250980392156863 0.250980392156863 1" />
      </material>
    </visual>
    <collision>
      <origin
        xyz="0 0 0"
        rpy="0 0 0" />
      <geometry>
        <mesh
          filename="package://meshes/Link_Camera_Head_Left_Eye.STL" />
      </geometry>
    </collision>
  </link>
  <joint
    name="Joint_Camera_Head_Left_Eye"
    type="fixed">
    <origin
      xyz="0.0901048237477598 0.031499999253423 0.495336903460226"
      rpy="1.65806278939535 0 1.57079631752076" />
    <parent
      link="Link_Waist_Yaw_to_Shoulder_Inner" />
    <child
      link="Link_Camera_Head_Left_Eye" />
    <axis
      xyz="0 0 0" />
  </joint>
  <link
    name="Link_Mask">
    <inertial>
      <origin
        xyz="-2.05837901418038E-07 -0.102991142448384 -0.103094710902463"
        rpy="0 0 0" />
      <mass
        value="2" />
      <inertia
        ixx="0.000324738316903186"
        ixy="3.02691177350238E-09"
        ixz="5.561881661179E-08"
        iyy="0.000455778905525662"
        iyz="4.85062200503267E-05"
        izz="0.000184472373903427" />
    </inertial>
    <visual>
      <origin
        xyz="0 0 0"
        rpy="0 0 0" />
      <geometry>
        <mesh
          filename="package://meshes/Link_Mask.STL" />
      </geometry>
      <material
        name="">
        <color
          rgba="0.501960784313725 0.501960784313725 0.501960784313725 1" />
      </material>
    </visual>
    <collision>
      <origin
        xyz="0 0 0"
        rpy="0 0 0" />
      <geometry>
        <mesh
          filename="package://meshes/Link_Mask.STL" />
      </geometry>
    </collision>
  </link>
  <joint
    name="Joint_Mask"
    type="fixed">
    <origin
      xyz="-0.0428574426734296 1.96731518201515E-05 0.391365544112642"
      rpy="2.96705972838954 0 -1.5707963267949" />
    <parent
      link="Link_Waist_Yaw_to_Shoulder_Inner" />
    <child
      link="Link_Mask" />
    <axis
      xyz="0 0 0" />
  </joint>
  <link
    name="Link_Chest_Front_Cover">
    <inertial>
      <origin
        xyz="0.0970239814442858 0.0370245979162963 -0.317463302536446"
        rpy="0 0 0" />
      <mass
        value="0.0939905859629904" />
      <inertia
        ixx="0.000354113496030877"
        ixy="-3.79940057315708E-06"
        ixz="1.32395225458379E-06"
        iyy="0.000505942322232302"
        iyz="1.60873979885374E-06"
        izz="0.00016112627656741" />
    </inertial>
    <visual>
      <origin
        xyz="0 0 0"
        rpy="0 0 0" />
      <geometry>
        <mesh
          filename="package://meshes/Link_Chest_Front_Cover.STL" />
      </geometry>
      <material
        name="">
        <color
          rgba="0.498039215686275 0.525490196078431 0.745098039215686 1" />
      </material>
    </visual>
    <collision>
      <origin
        xyz="0 0 0"
        rpy="0 0 0" />
      <geometry>
        <mesh
          filename="package://meshes/Link_Chest_Front_Cover.STL" />
      </geometry>
    </collision>
  </link>
  <joint
    name="Joint_Chest_Front_Cover"
    type="fixed">
    <origin
      xyz="0.0482644434006438 -0.102712228594056 -0.150180188902497"
      rpy="3.14159265358979 0 1.5707963267949" />
    <parent
      link="Link_Waist_Yaw_to_Shoulder_Inner" />
    <child
      link="Link_Chest_Front_Cover" />
    <axis
      xyz="0 0 0" />
  </joint>
  <link
    name="Link_Chest_Back_Cover">
    <inertial>
      <origin
        xyz="0.102665022539535 -0.0910080676557068 -0.212115982770171"
        rpy="0 0 0" />
      <mass
        value="0.209224454777449" />
      <inertia
        ixx="0.000566488052492765"
        ixy="-2.65086386504084E-08"
        ixz="-4.38278326230094E-07"
        iyy="0.00166785759059947"
        iyz="-3.47104995483819E-05"
        izz="0.00158774316311701" />
    </inertial>
    <visual>
      <origin
        xyz="0 0 0"
        rpy="0 0 0" />
      <geometry>
        <mesh
          filename="package://meshes/Link_Chest_Back_Cover.STL" />
      </geometry>
      <material
        name="">
        <color
          rgba="0.725490196078431 0.745098039215686 0.650980392156863 1" />
      </material>
    </visual>
    <collision>
      <origin
        xyz="0 0 0"
        rpy="0 0 0" />
      <geometry>
        <mesh
          filename="package://meshes/Link_Chest_Back_Cover.STL" />
      </geometry>
    </collision>
  </link>
  <joint
    name="Joint_Chest_Back_Cover"
    type="fixed">
    <origin
      xyz="0.0482644434006438 -0.102712228594056 -0.150180188902497"
      rpy="3.14159265358979 0 1.5707963267949" />
    <parent
      link="Link_Waist_Yaw_to_Shoulder_Inner" />
    <child
      link="Link_Chest_Back_Cover" />
    <axis
      xyz="0 0 0" />
  </joint>
  <link
    name="Link_Camera_Chest">
    <inertial>
      <origin
        xyz="0.00111196141451277 -2.78495287886482E-05 -0.012565684115131"
        rpy="0 0 0" />
      <mass
        value="0.0457689927476151" />
      <inertia
        ixx="4.13770899814852E-06"
        ixy="-1.45339317442275E-09"
        ixz="4.09728418768785E-07"
        iyy="2.78756697554141E-05"
        iyz="7.42363844020483E-09"
        izz="2.75915836718397E-05" />
    </inertial>
    <visual>
      <origin
        xyz="0 0 0"
        rpy="0 0 0" />
      <geometry>
        <mesh
          filename="package://meshes/Link_Camera_Chest.STL" />
      </geometry>
      <material
        name="">
        <color
          rgba="0.792156862745098 0.819607843137255 0.933333333333333 1" />
      </material>
    </visual>
    <collision>
      <origin
        xyz="0 0 0"
        rpy="0 0 0" />
      <geometry>
        <mesh
          filename="package://meshes/Link_Camera_Chest.STL" />
      </geometry>
    </collision>
  </link>
  <joint
    name="Joint_Camera_Chest"
    type="fixed">
    <origin
      xyz="0.0553284685822616 0 0.299416237004018"
      rpy="1.7453292519943 0 1.57079632679775" />
    <parent
      link="Link_Waist_Yaw_to_Shoulder_Inner" />
    <child
      link="Link_Camera_Chest" />
    <axis
      xyz="0 0 0" />
  </joint>
  <link
    name="Link_Knee_Black_Cover">
    <inertial>
      <origin
        xyz="-0.185935924677306 0.0115409856049614 -0.00145142348220287"
        rpy="0 0 0" />
      <mass
        value="0.260422352934635" />
      <inertia
        ixx="0.00024862624724164"
        ixy="-4.3718926653023E-05"
        ixz="7.52189734591861E-08"
        iyy="0.00208362754151595"
        iyz="2.44599307705115E-07"
        izz="0.00232631660520813" />
    </inertial>
    <visual>
      <origin
        xyz="0 0 0"
        rpy="0 0 0" />
      <geometry>
        <mesh
          filename="package://meshes/Link_Knee_Black_Cover.STL" />
      </geometry>
      <material
        name="">
        <color
          rgba="0.792156862745098 0.819607843137255 0.933333333333333 1" />
      </material>
    </visual>
    <collision>
      <origin
        xyz="0 0 0"
        rpy="0 0 0" />
      <geometry>
        <mesh
          filename="package://meshes/Link_Knee_Black_Cover.STL" />
      </geometry>
    </collision>
  </link>
  <joint
    name="Joint_Knee_Black_Cover"
    type="fixed">
    <origin
      xyz="0.3705 0 0"
      rpy="0 0 0" />
    <parent
      link="Link_Knee_to_Waist_Pitch" />
    <child
      link="Link_Knee_Black_Cover" />
    <axis
      xyz="0 0 0" />
  </joint>
  <link
    name="Link_IMU">
    <inertial>
      <origin
        xyz="-0.000532256650626006 -0.0054028565472856 -0.00652634706970708"
        rpy="0 0 0" />
      <mass
        value="0.0250513530544791" />
      <inertia
        ixx="4.72772678965137E-06"
        ixy="1.65105409699308E-09"
        ixz="6.04146929799404E-12"
        iyy="5.75032057676297E-06"
        iyz="6.75832216834686E-09"
        izz="9.91394694823134E-06" />
    </inertial>
    <visual>
      <origin
        xyz="0 0 0"
        rpy="0 0 0" />
      <geometry>
        <mesh
          filename="package://meshes/Link_IMU.STL" />
      </geometry>
      <material
        name="">
        <color
          rgba="1 1 1 1" />
      </material>
    </visual>
    <collision>
      <origin
        xyz="0 0 0"
        rpy="0 0 0" />
      <geometry>
        <mesh
          filename="package://meshes/Link_IMU.STL" />
      </geometry>
    </collision>
  </link>
  <joint
    name="Joint_IMU"
    type="fixed">
    <origin
      xyz="0 0.1987 0"
      rpy="1.5707963267949 0 3.14159265358979" />
    <parent
      link="Link_Ground_Vehicle_Z" />
    <child
      link="Link_IMU" />
    <axis
      xyz="0 0 0" />
  </joint>
  <link
    name="Link_Lidar_Back">
    <inertial>
      <origin
        xyz="0.00283997852782114 0.0125654528599173 -0.0103261484034342"
        rpy="0 0 0" />
      <mass
        value="0.0393714505596442" />
      <inertia
        ixx="1.29211869218963E-05"
        ixy="-4.72398074752648E-07"
        ixz="-2.61010067974635E-08"
        iyy="1.24132096076578E-05"
        iyz="-2.11501620053375E-08"
        izz="2.31759864713394E-05" />
    </inertial>
    <visual>
      <origin
        xyz="0 0 0"
        rpy="0 0 0" />
      <geometry>
        <mesh
          filename="package://meshes/Link_Lidar_Back.STL" />
      </geometry>
      <material
        name="">
        <color
          rgba="1 1 1 1" />
      </material>
    </visual>
    <collision>
      <origin
        xyz="0 0 0"
        rpy="0 0 0" />
      <geometry>
        <mesh
          filename="package://meshes/Link_Lidar_Back.STL" />
      </geometry>
    </collision>
  </link>
  <joint
    name="Joint_Lidar_Back"
    type="fixed">
    <origin
      xyz="0 0.1515 0.215"
      rpy="-1.5707963267949 0 3.14159265358979" />
    <parent
      link="Link_Ground_Vehicle_Z" />
    <child
      link="Link_Lidar_Back" />
    <axis
      xyz="0 0 0" />
  </joint>
  <link
    name="Link_Lidar_Front">
    <inertial>
      <origin
        xyz="-0.002839978813898 -0.0125654532989012 -0.0103261483032979"
        rpy="0 0 0" />
      <mass
        value="0.0393714500462311" />
      <inertia
        ixx="1.2921186920272E-05"
        ixy="-4.7239807496703E-07"
        ixz="2.61010039931071E-08"
        iyy="1.24132096040167E-05"
        iyz="2.11501615819816E-08"
        izz="2.31759864709317E-05" />
    </inertial>
    <visual>
      <origin
        xyz="0 0 0"
        rpy="0 0 0" />
      <geometry>
        <mesh
          filename="package://meshes/Link_Lidar_Front.STL" />
      </geometry>
      <material
        name="">
        <color
          rgba="1 1 1 1" />
      </material>
    </visual>
    <collision>
      <origin
        xyz="0 0 0"
        rpy="0 0 0" />
      <geometry>
        <mesh
          filename="package://meshes/Link_Lidar_Front.STL" />
      </geometry>
    </collision>
  </link>
  <joint
    name="Joint_Lidar_Front"
    type="fixed">
    <origin
      xyz="0 0.151499999999971 -0.215"
      rpy="-1.57079632679489 0 3.14159265358979" />
    <parent
      link="Link_Ground_Vehicle_Z" />
    <child
      link="Link_Lidar_Front" />
    <axis
      xyz="0 0 0" />
  </joint>
  <link
    name="Link_Ground_Vehicle_Visual_Cover">
    <inertial>
      <origin
        xyz="5.03813175097151E-05 0.198962140361411 -0.0233991728505725"
        rpy="0 0 0" />
      <mass
        value="0.569688940866508" />
      <inertia
        ixx="0.012140533672483"
        ixy="-1.69800921173855E-06"
        ixz="-6.29282321581049E-06"
        iyy="0.0232610035532533"
        iyz="-0.000347486083806363"
        izz="0.0120287046366284" />
    </inertial>
    <visual>
      <origin
        xyz="0 0 0"
        rpy="0 0 0" />
      <geometry>
        <mesh
          filename="package://meshes/Link_Ground_Vehicle_Visual_Cover.STL" />
      </geometry>
      <material
        name="">
        <color
          rgba="0.698039215686274 0.698039215686274 0.698039215686274 1" />
      </material>
    </visual>
    <collision>
      <origin
        xyz="0 0 0"
        rpy="0 0 0" />
      <geometry>
        <mesh
          filename="package://meshes/Link_Ground_Vehicle_Visual_Cover.STL" />
      </geometry>
    </collision>
  </link>
  <joint
    name="Joint_Ground_Vehicle_Visual_Cover"
    type="fixed">
    <origin
      xyz="0 0 0"
      rpy="0 0 0" />
    <parent
      link="Link_Ground_Vehicle_Z" />
    <child
      link="Link_Ground_Vehicle_Visual_Cover" />
    <axis
      xyz="0 0 0" />
  </joint>
</robot>
